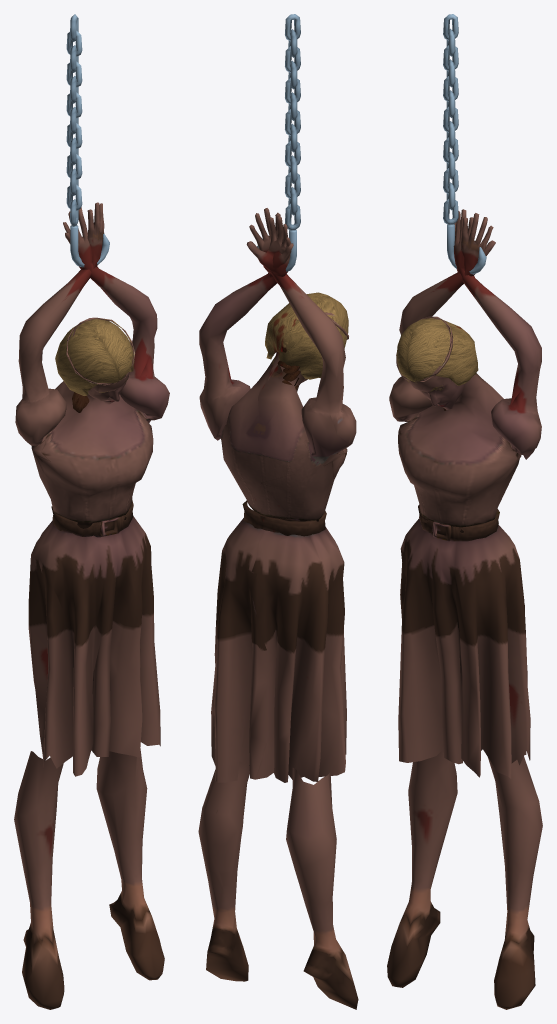
Rendered from mm6_deco_corpse11.glb.
3 renders of one model, left to right at view 1: azimuth 30°, elevation 25°; view 2: azimuth 150°, elevation 25°; view 3: azimuth 330°, elevation 25°, orthographic. The views are drawn at different scales.
Visible parts, largest first — view 1: Corpse11; view 2: Corpse11; view 3: Corpse11.
Part boxes in pixels (x1=…): Corpse11: x1=14, y1=14, x2=169, y2=1009; Corpse11: x1=198, y1=14, x2=358, y2=1009; Corpse11: x1=387, y1=14, x2=542, y2=1009.
Size of the model in its own units: 0.3741 by 2.34 by 0.2871.
2 materials, 2 textured.
